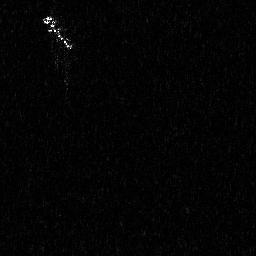ship: (39, 12, 78, 53)
